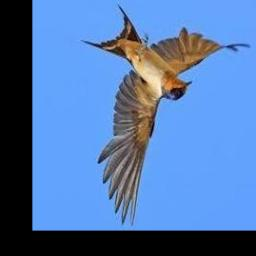Swallow: (80, 4, 249, 226)
